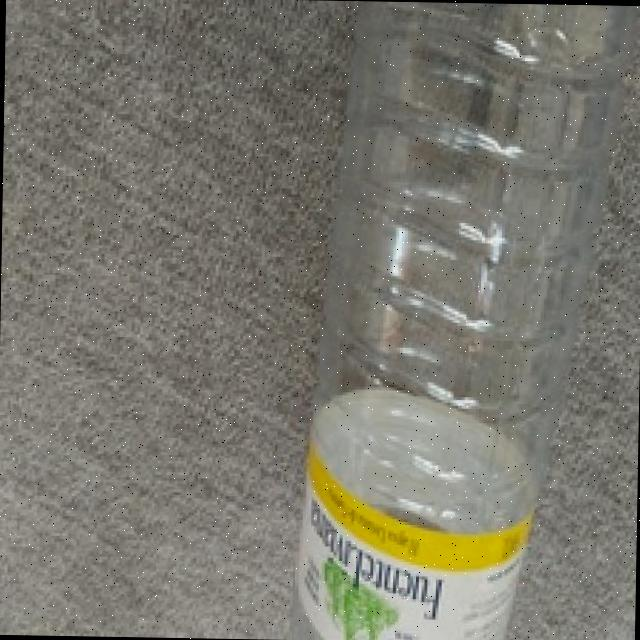bottle: (297, 0, 561, 640)
label: (285, 440, 529, 640)
